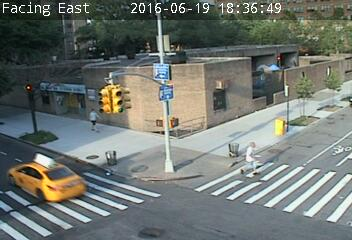neg: (288, 85, 314, 120), (180, 55, 204, 88), (129, 77, 153, 109), (214, 87, 236, 116)
pos: (236, 137, 267, 178), (83, 105, 104, 133)
